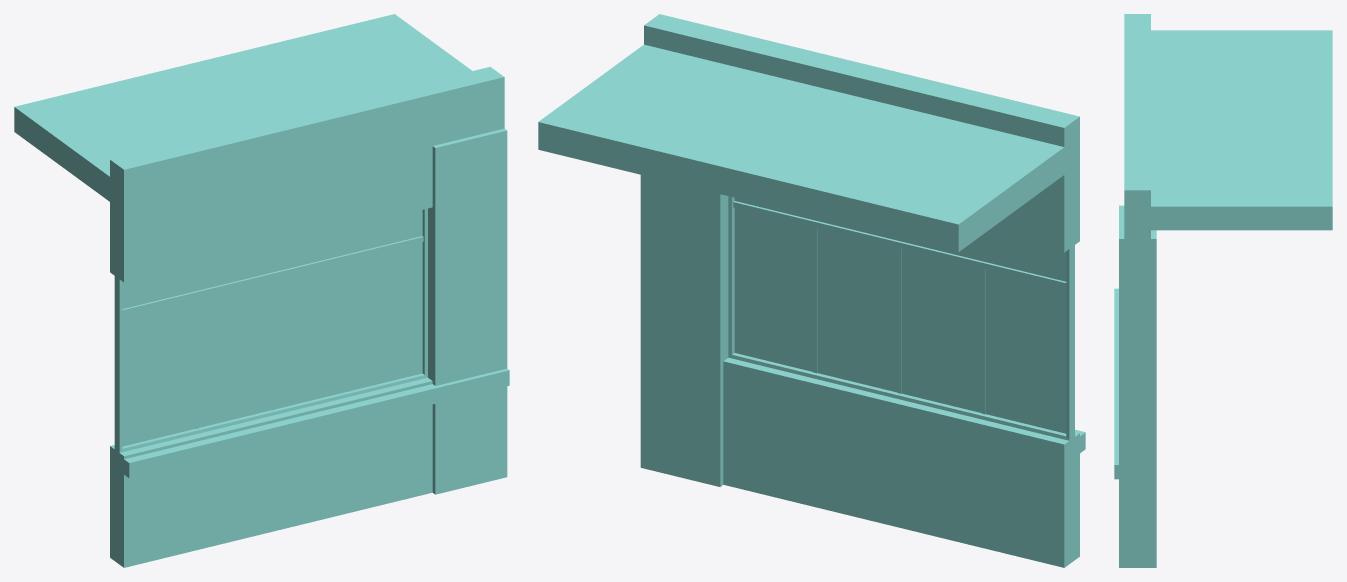
File: DinerWallWindow3_Collision.fbx
3 views of the same model, side by side, from view 1: azimuth 30°, elevation 25°; view 2: azimuth 150°, elevation 25°; view 3: azimuth 270°, elevation 25° (orthographic). The views are drawn at different scales.
Parts seen in each view (by area): view 1: DinerWallWindow3_Collision; view 2: DinerWallWindow3_Collision; view 3: DinerWallWindow3_Collision.
Boxes of the visible parts, x1=… form: DinerWallWindow3_Collision: x1=14, y1=14, x2=509, y2=567; DinerWallWindow3_Collision: x1=538, y1=14, x2=1085, y2=567; DinerWallWindow3_Collision: x1=1114, y1=14, x2=1332, y2=567.
Bounding box in the file's own units: 3.52 × 3.52 × 1.84.
